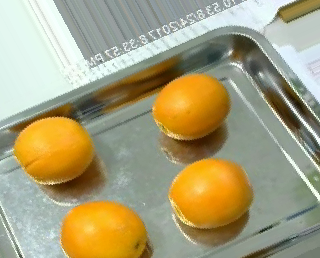Orange: (168, 157, 253, 229), (12, 114, 93, 185), (151, 72, 230, 141), (59, 200, 146, 258)
